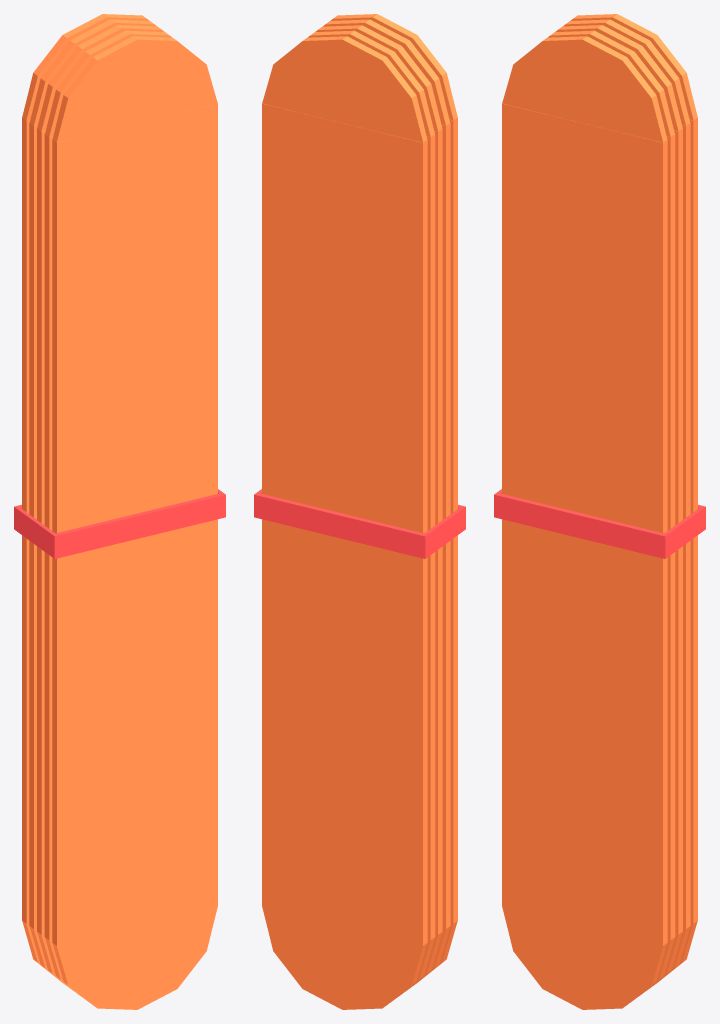
File: Abeslang.fbx
3 views of the same model, side by side, from view 1: azimuth 30°, elevation 25°; view 2: azimuth 150°, elevation 25°; view 3: azimuth 330°, elevation 25° (orthographic).
Visible parts, largest first — view 1: Abeslang; view 2: Abeslang; view 3: Abeslang.
Part boxes in pixels (bbox=[...]): Abeslang: bbox=[14, 14, 225, 1009]; Abeslang: bbox=[254, 14, 465, 1009]; Abeslang: bbox=[494, 14, 705, 1009].
Bounding box in the file's own units: 212 × 1150 × 87.45.
